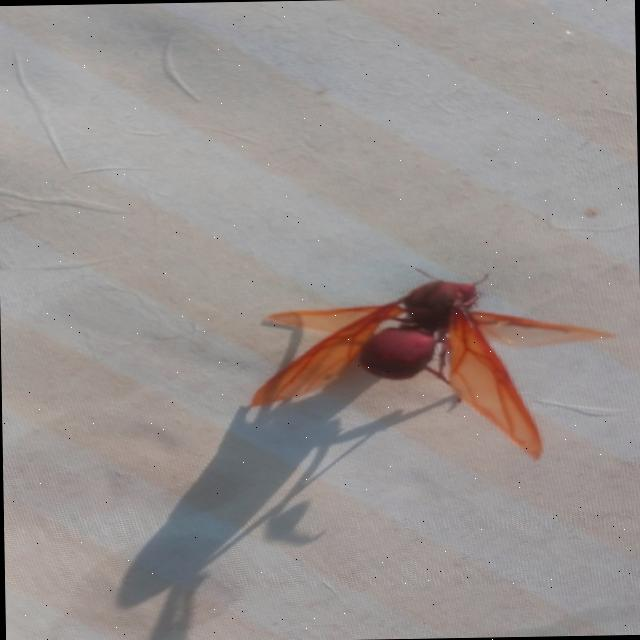Alive-Female-Dealate: (247, 262, 622, 465)
